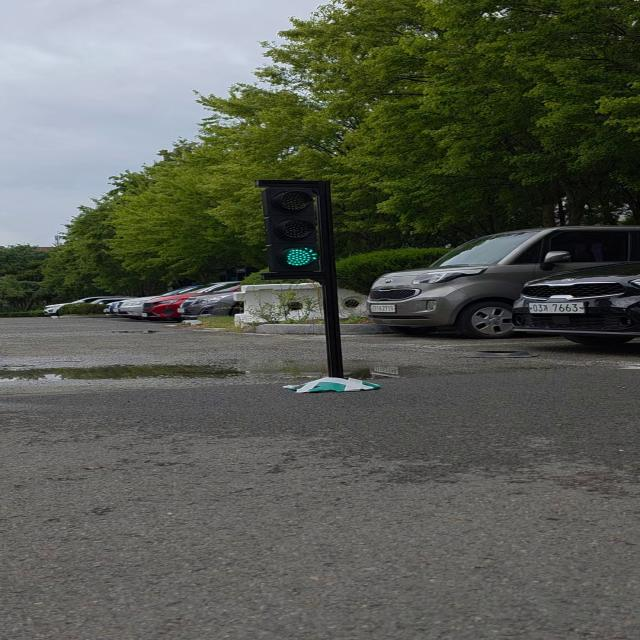green: (259, 181, 332, 277)
